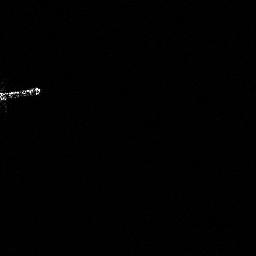ship: (1, 87, 43, 102)
